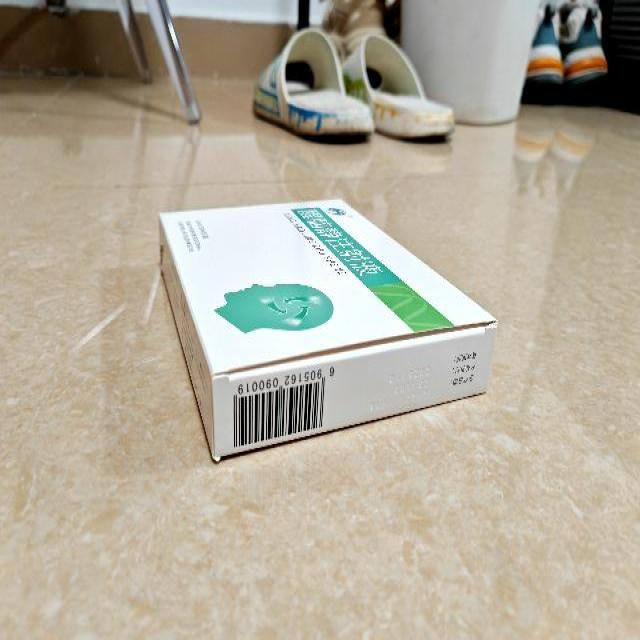box: (160, 198, 498, 463)
